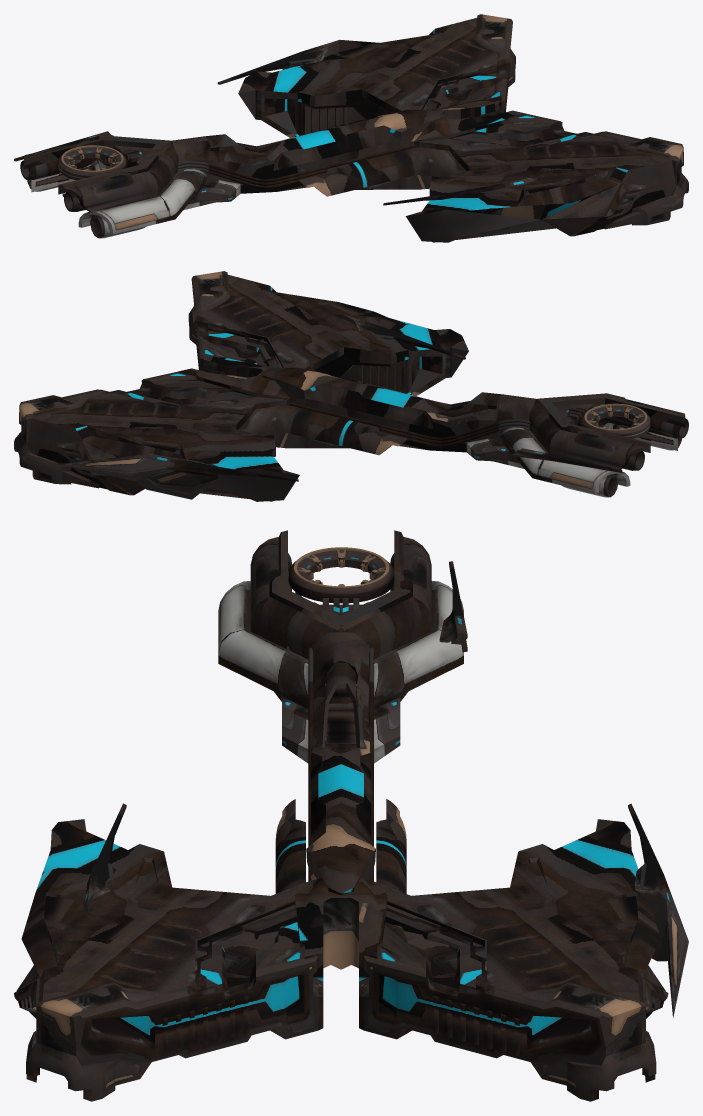
Rendered from thor.glb.
3 views of the same model, one above another, from view 1: azimuth 30°, elevation 25°; view 2: azimuth 150°, elevation 25°; view 3: azimuth 270°, elevation 25° (orthographic). The views are drawn at different scales.
Visible parts, largest first — view 1: SKM_Thor_True_Body, SKM_Thor_True_Accelerator, SKM_Thor_True_Turret, SKM_Thor_True_Horns; view 2: SKM_Thor_True_Body, SKM_Thor_True_Accelerator, SKM_Thor_True_Horns, SKM_Thor_True_Turret; view 3: SKM_Thor_True_Body, SKM_Thor_True_Turret, SKM_Thor_True_Accelerator, SKM_Thor_True_Horns.
Part boxes in pixels (x1,y1,x2,y2): SKM_Thor_True_Body: (20, 18, 676, 242); SKM_Thor_True_Accelerator: (27, 145, 240, 238); SKM_Thor_True_Turret: (475, 14, 688, 229); SKM_Thor_True_Horns: (14, 39, 536, 205); SKM_Thor_True_Body: (27, 274, 688, 501); SKM_Thor_True_Accelerator: (466, 403, 681, 497); SKM_Thor_True_Horns: (57, 314, 671, 499); SKM_Thor_True_Turret: (14, 271, 229, 488); SKM_Thor_True_Body: (14, 530, 668, 1035); SKM_Thor_True_Turret: (26, 946, 656, 1101); SKM_Thor_True_Accelerator: (218, 547, 463, 763); SKM_Thor_True_Horns: (83, 561, 688, 1018).
Bounding box in the file's own units: 1.58 × 0.2749 × 1.07.
Materials: 3 (3 with a texture image).
